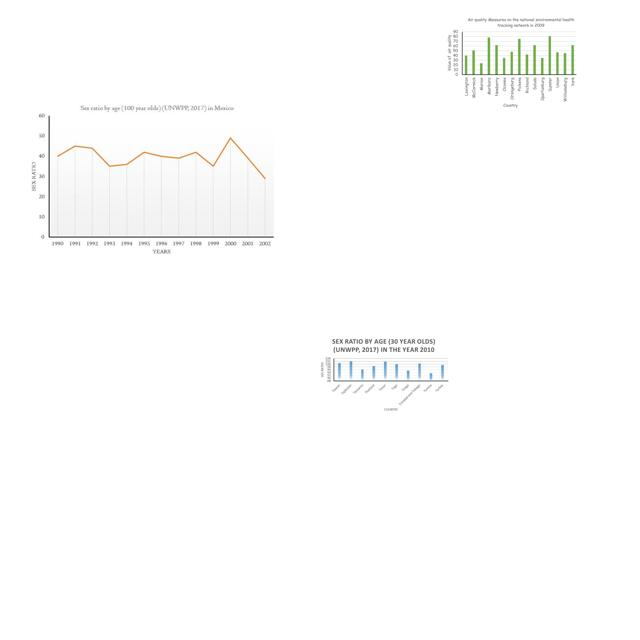Graph: (27, 101, 278, 258), (444, 14, 579, 110), (318, 336, 450, 413)
